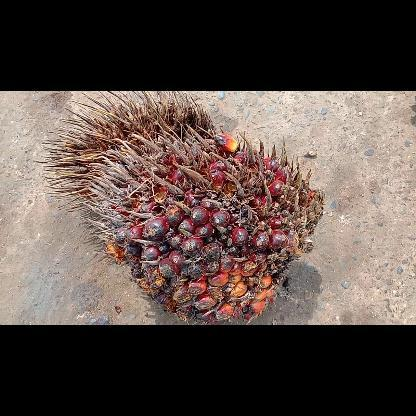Janjang kosong: (42, 91, 214, 217)
TBS masak: (83, 119, 325, 324)
